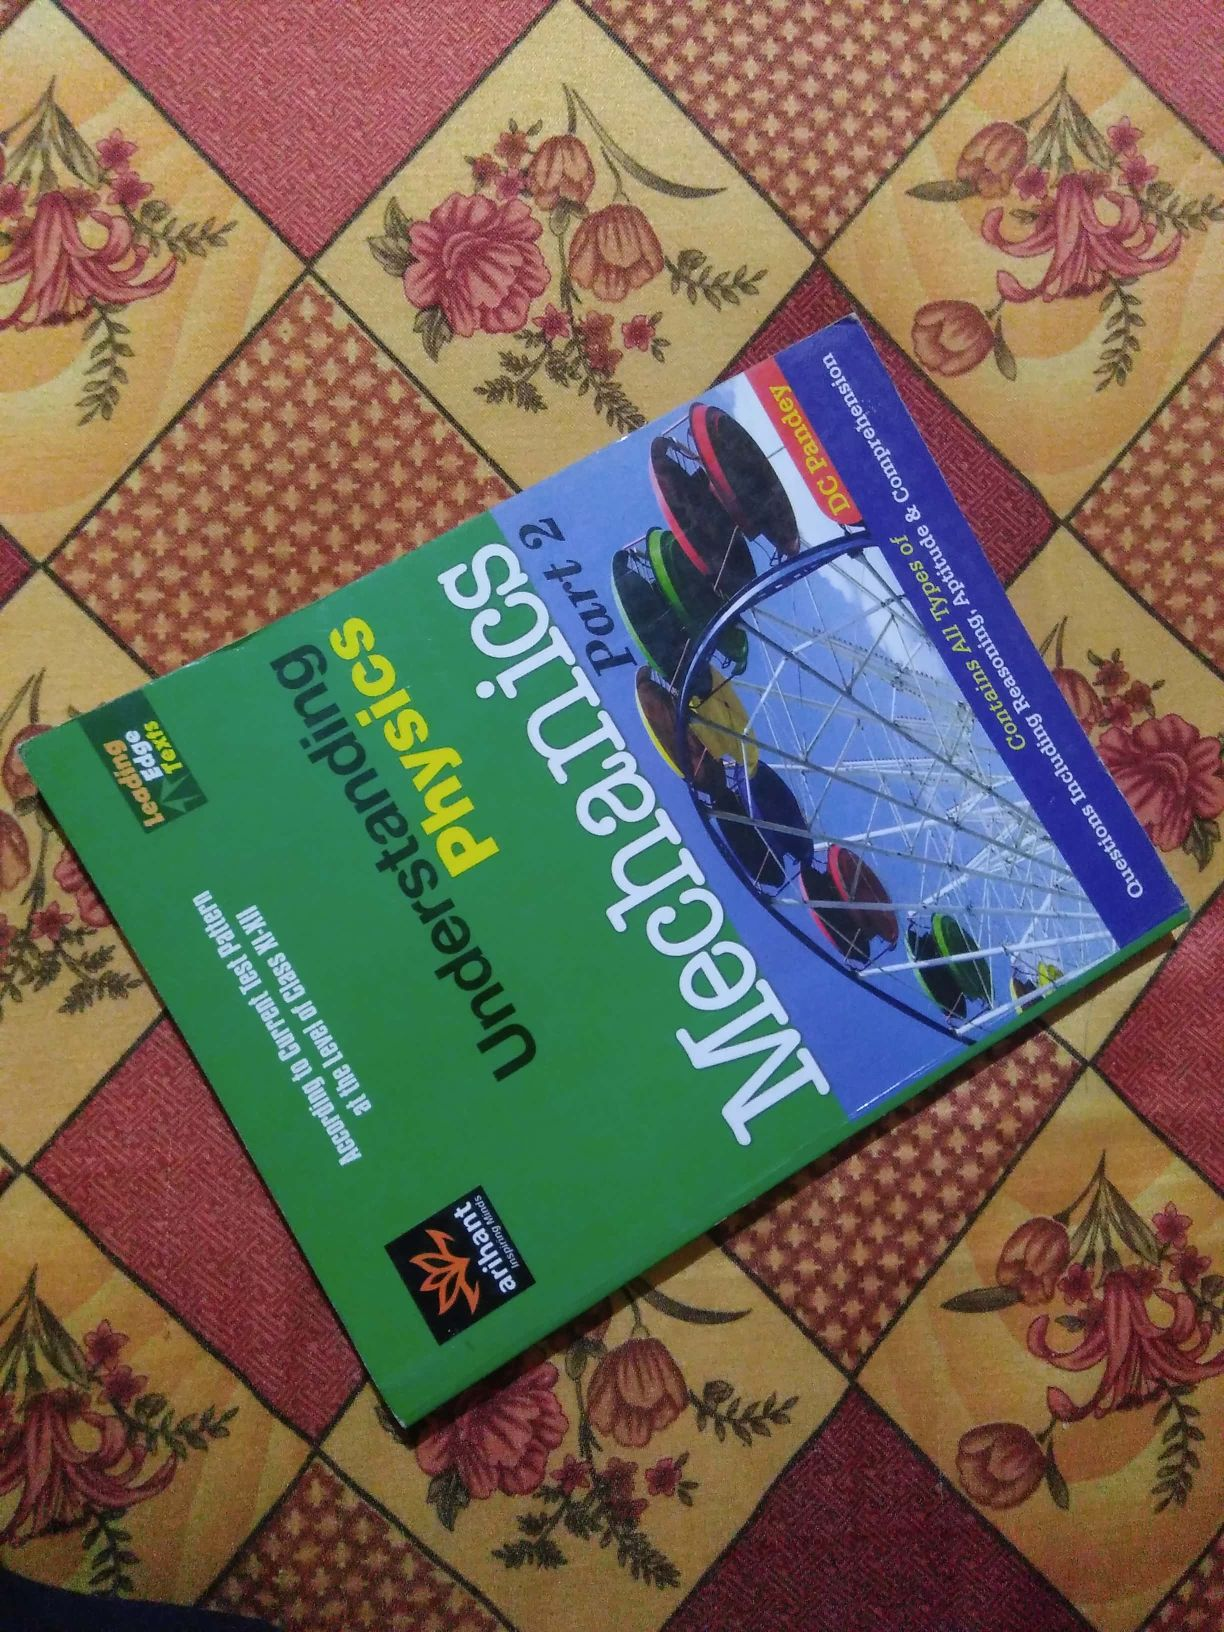mechanics: (93, 373, 1175, 1405)
